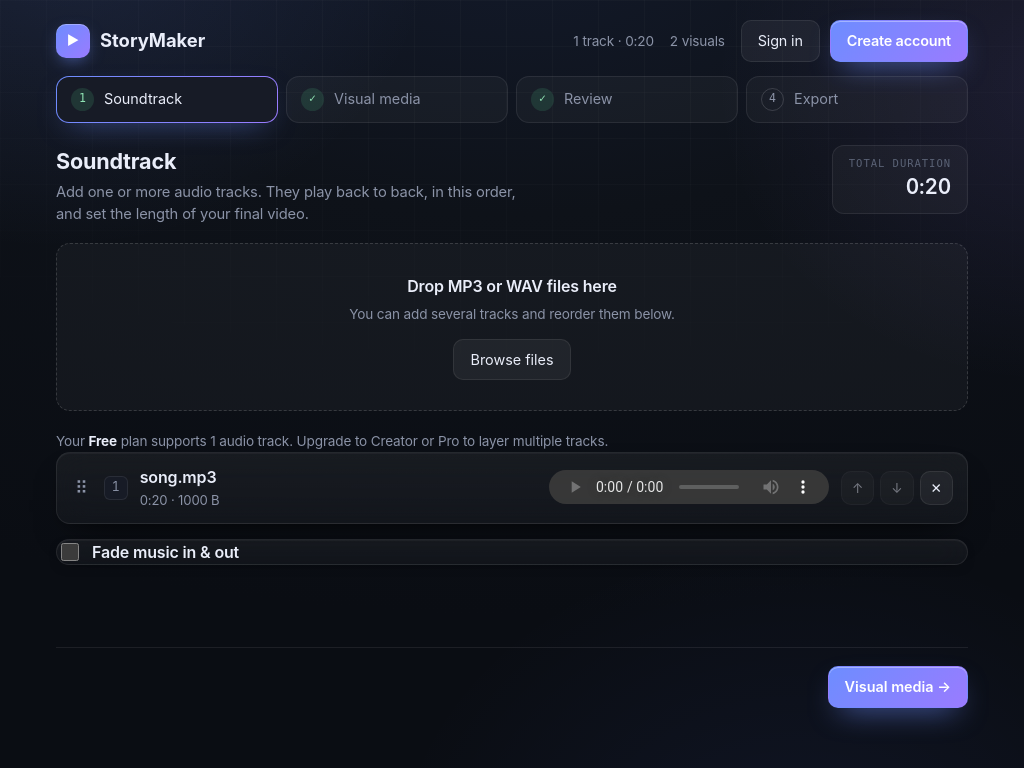
editor access without an account › signed-out users can configure project-wide transition and zoom defaults
Click the button "✓ Review": (627, 99) top-left (516, 76), bottom-right (738, 123)
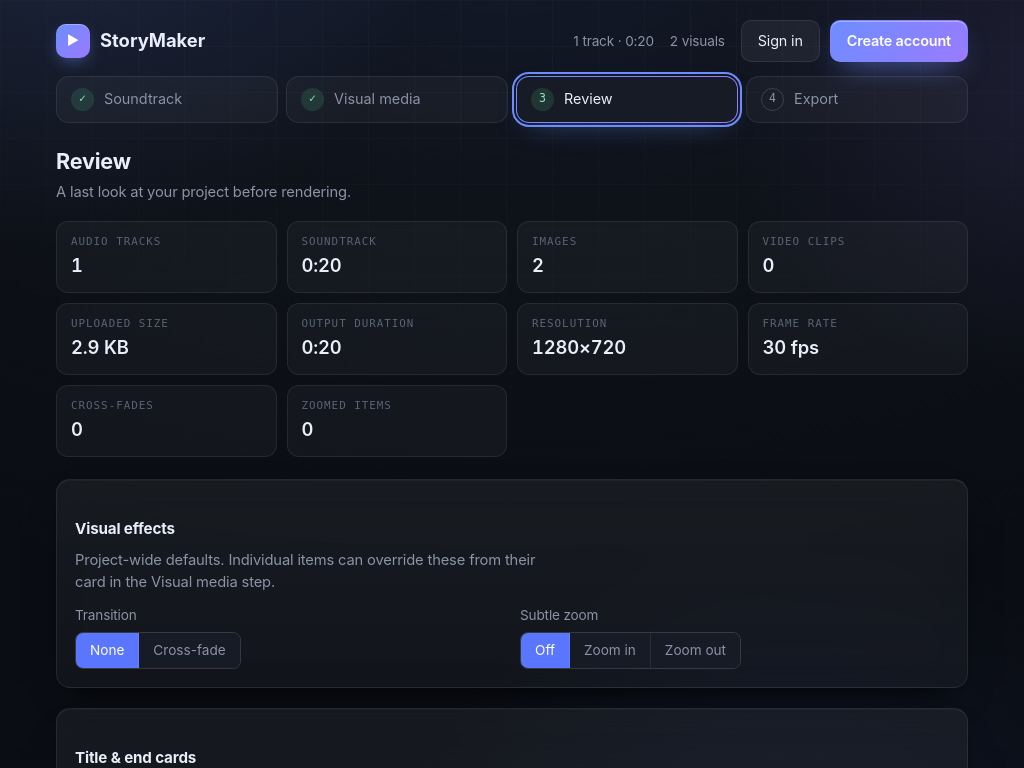
Now the heading "Visual effects" is shown, box top-left (75, 519), bottom-right (175, 538)
Click the button "Cross-fade": (190, 650) top-left (139, 633), bottom-right (240, 668)
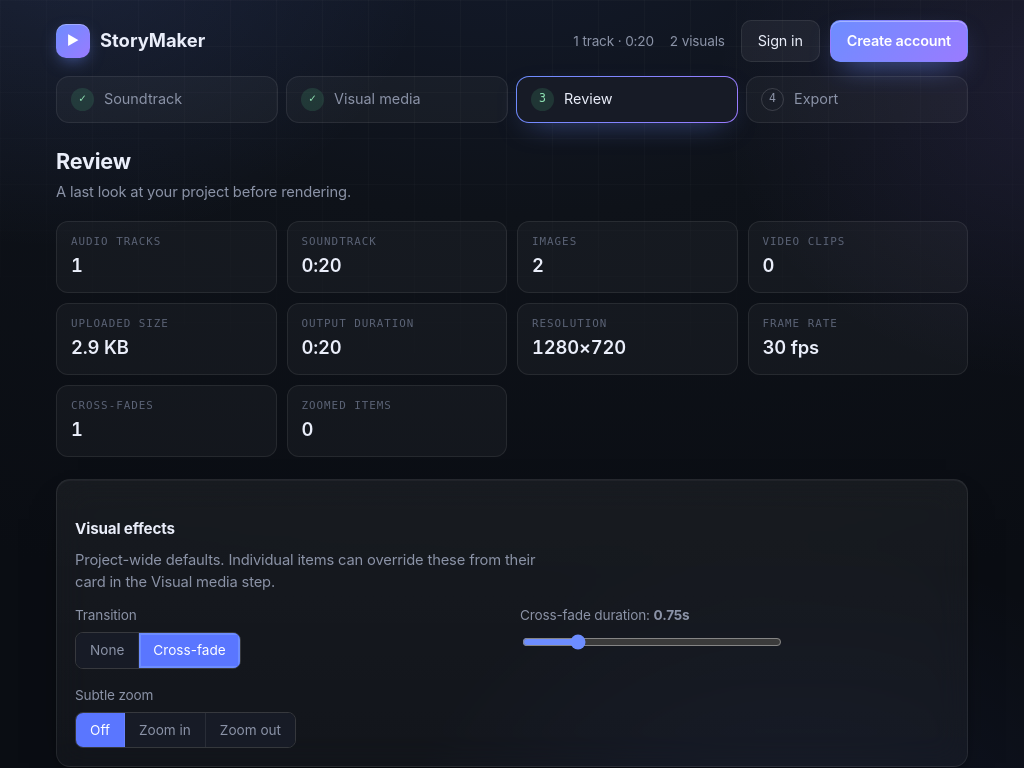
Now the slider labelled "Cross-fade duration: 0.75s" is shown, box top-left (522, 634), bottom-right (782, 650)
